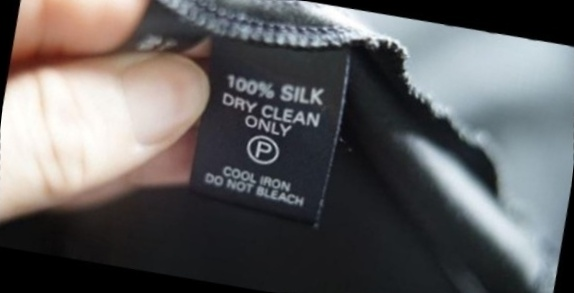dry_clean_any_solvent_except_trichloroethylene: (242, 128, 287, 170)
